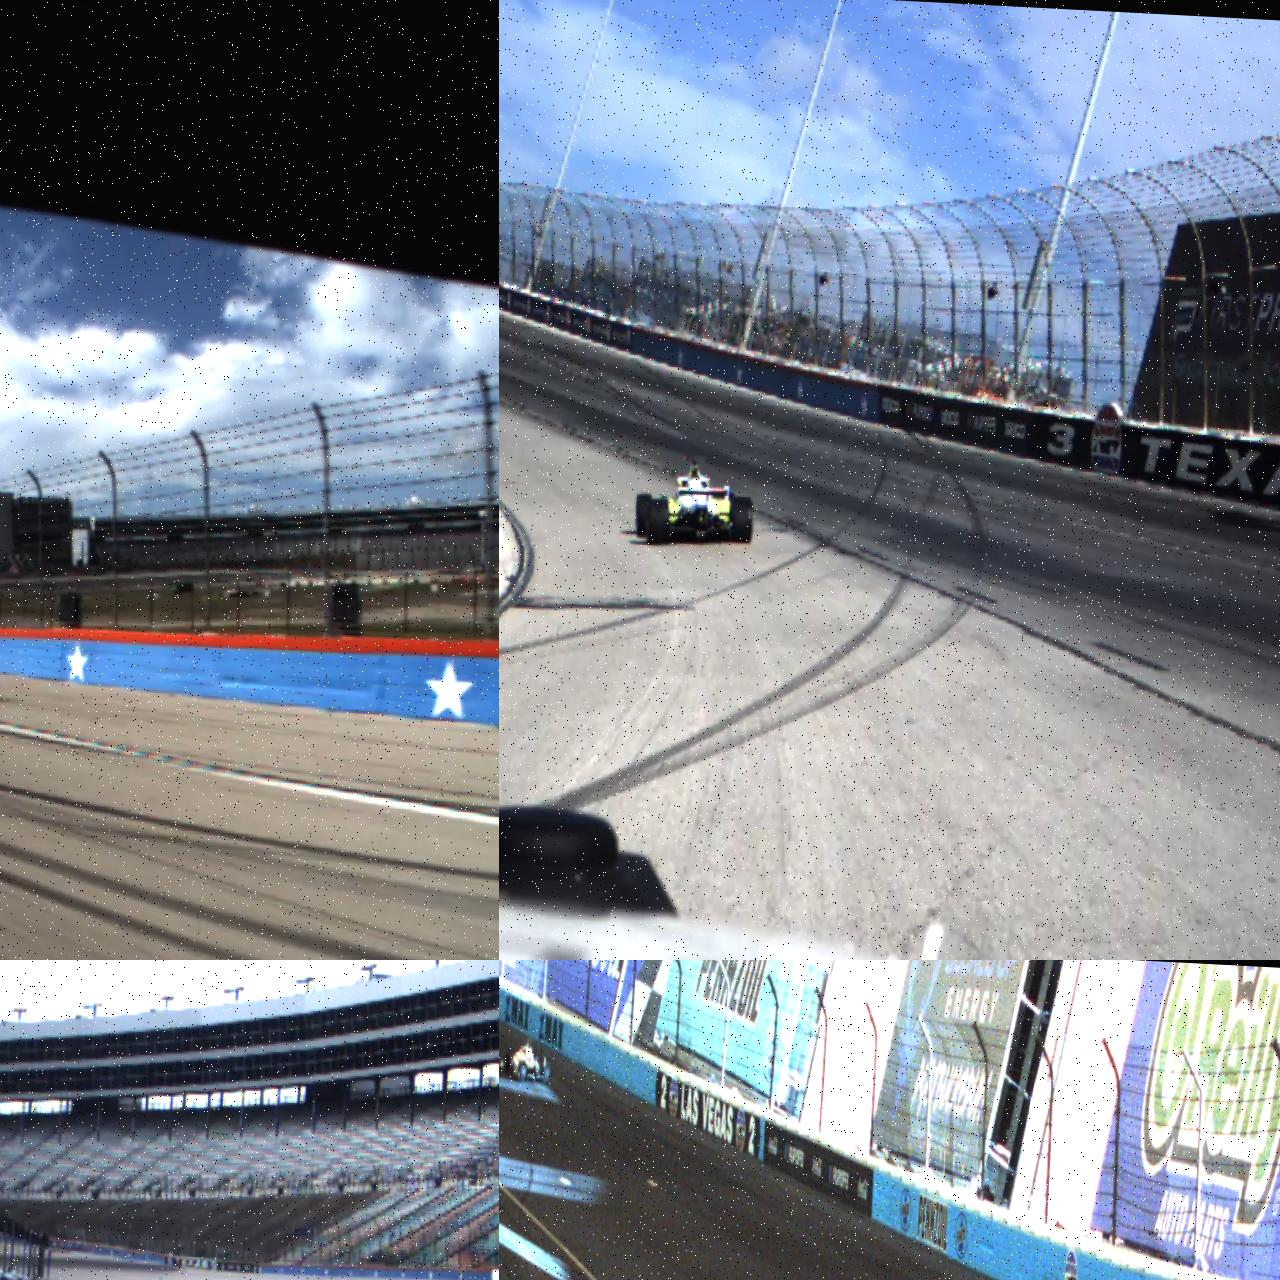AV: (633, 452, 756, 550), (499, 1035, 552, 1083)
Wheel: (729, 496, 754, 544), (647, 498, 669, 545), (633, 493, 653, 537), (517, 1061, 527, 1082), (542, 1060, 550, 1083), (502, 1053, 510, 1073), (0, 1276, 7, 1280)
